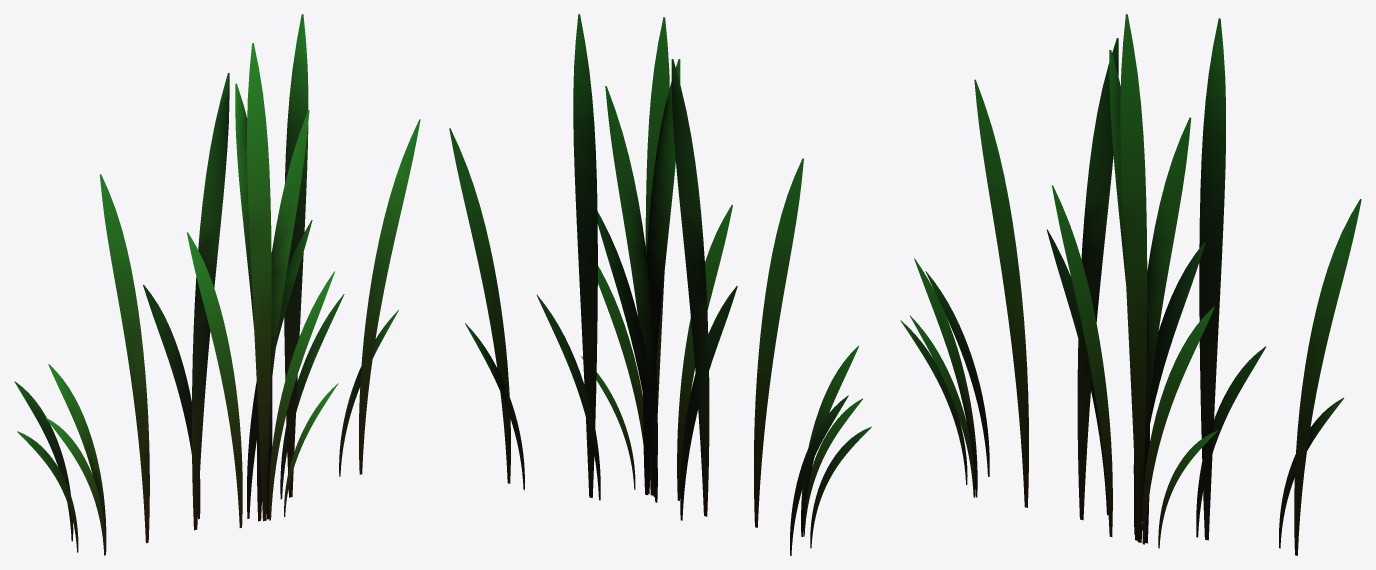
The model's file is grass.FBX.
3 renders of one model, left to right at view 1: azimuth 30°, elevation 25°; view 2: azimuth 150°, elevation 25°; view 3: azimuth 330°, elevation 25°, orthographic. The views are drawn at different scales.
Parts seen in each view (by area): view 1: grass_generator1; view 2: grass_generator1; view 3: grass_generator1.
Part boxes in pixels (x1,y1,x2,y2): grass_generator1: [14, 14, 420, 555]; grass_generator1: [449, 14, 871, 555]; grass_generator1: [900, 14, 1361, 555].
Size of the model in its own units: 52.31 by 58.18 by 6.23.
